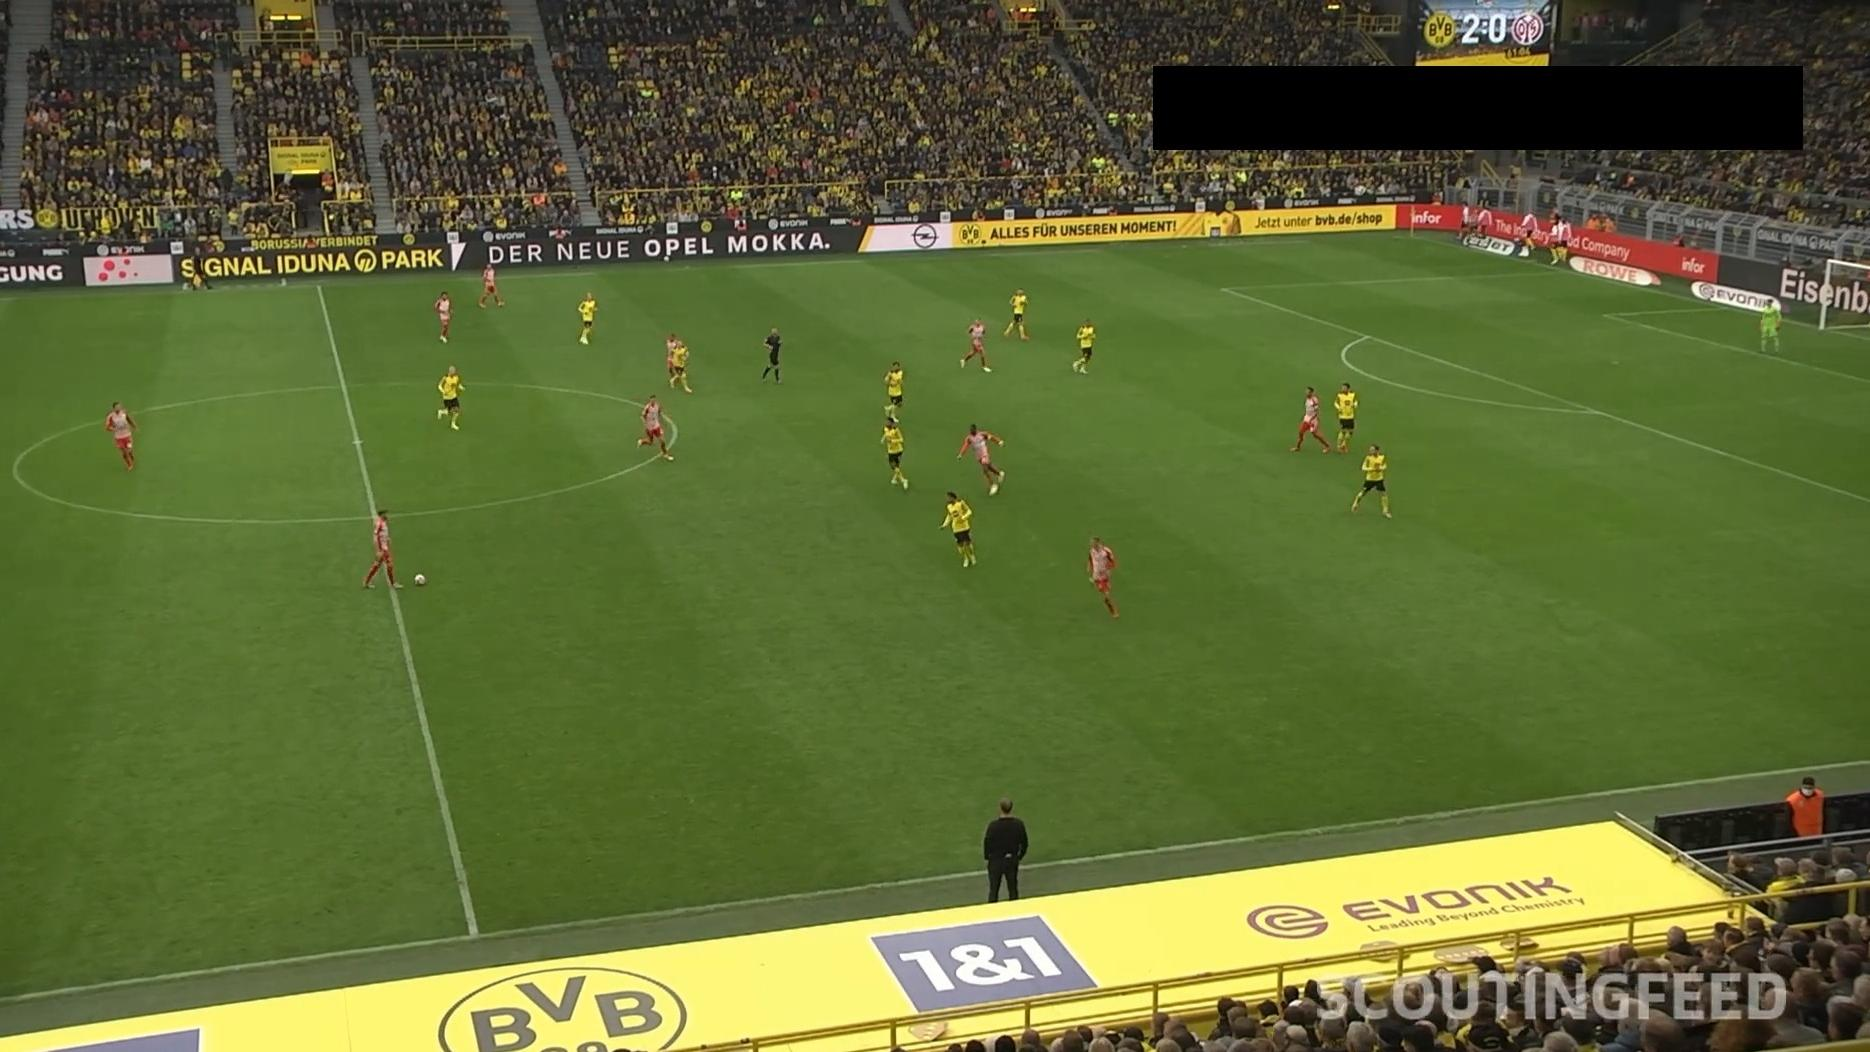ball: (412, 570, 429, 588)
